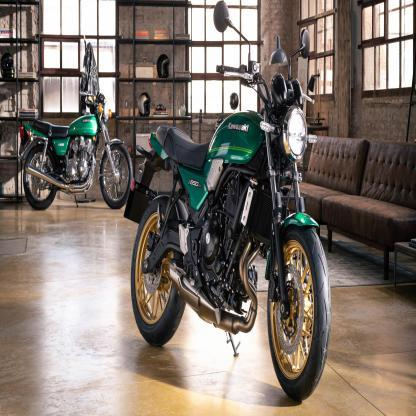Motorcycle: (132, 0, 337, 403), (12, 40, 134, 209)
